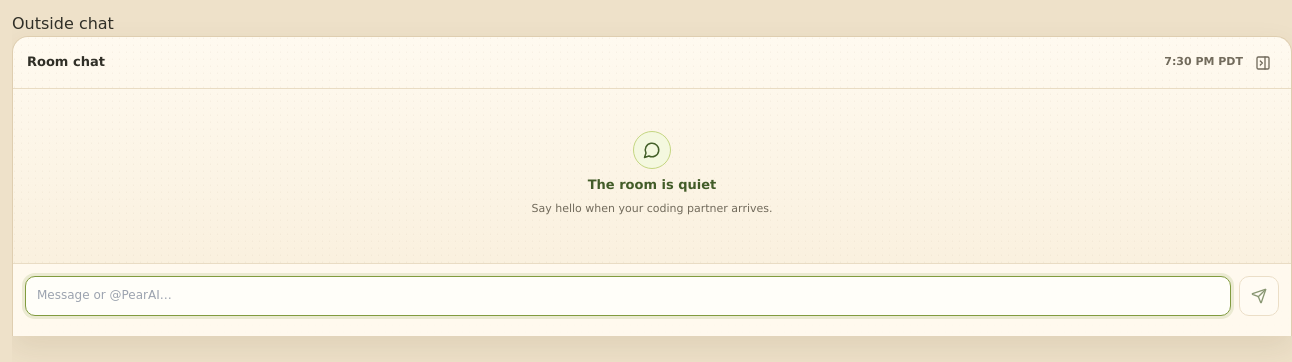
it: ChatPanel mention menu › selects the highlighted result with Enter and keeps typing focus
Type "@bo" into the dropdown named "Message room".
click(628, 296); type("@bo")  # box [25,276,1231,316]
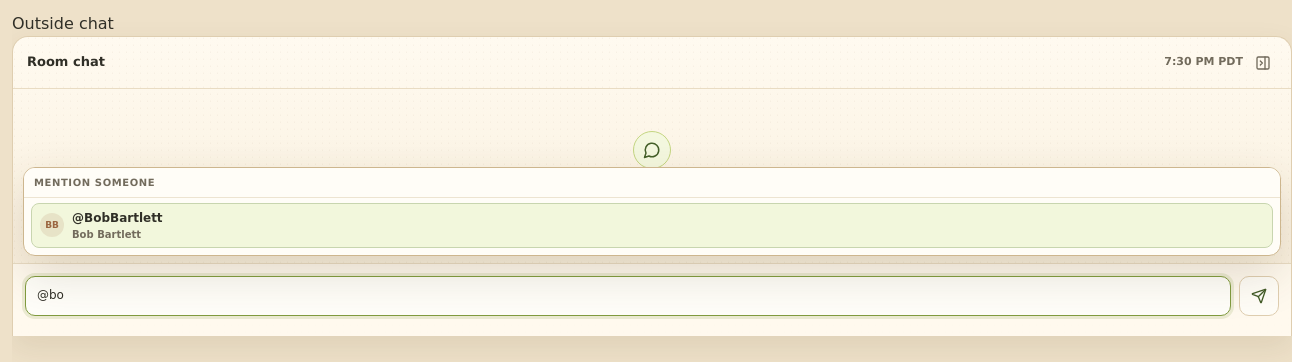
Press Enter in the dropdown named "Message room", box [25,276,1231,316]
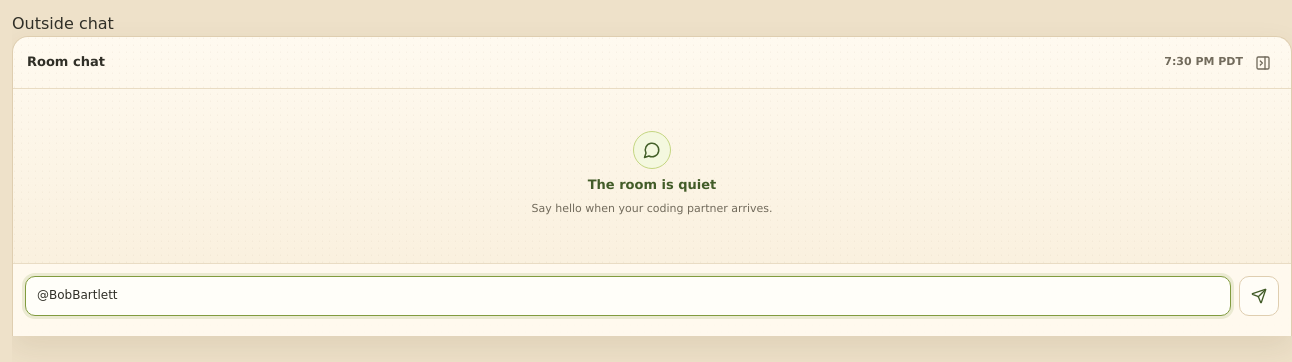
expect the dropdown named "Message room" holds "@BobBartlett ": met, box [25,276,1231,316]
expect the list is gone: met
